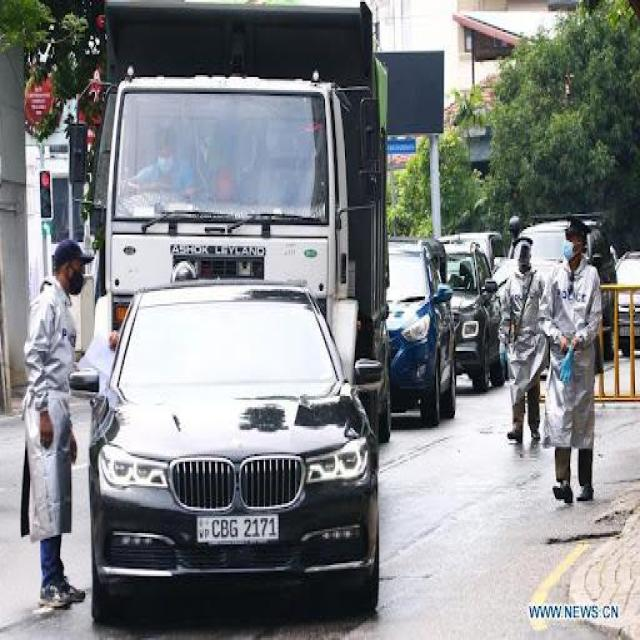license-plate: (195, 514, 279, 541)
